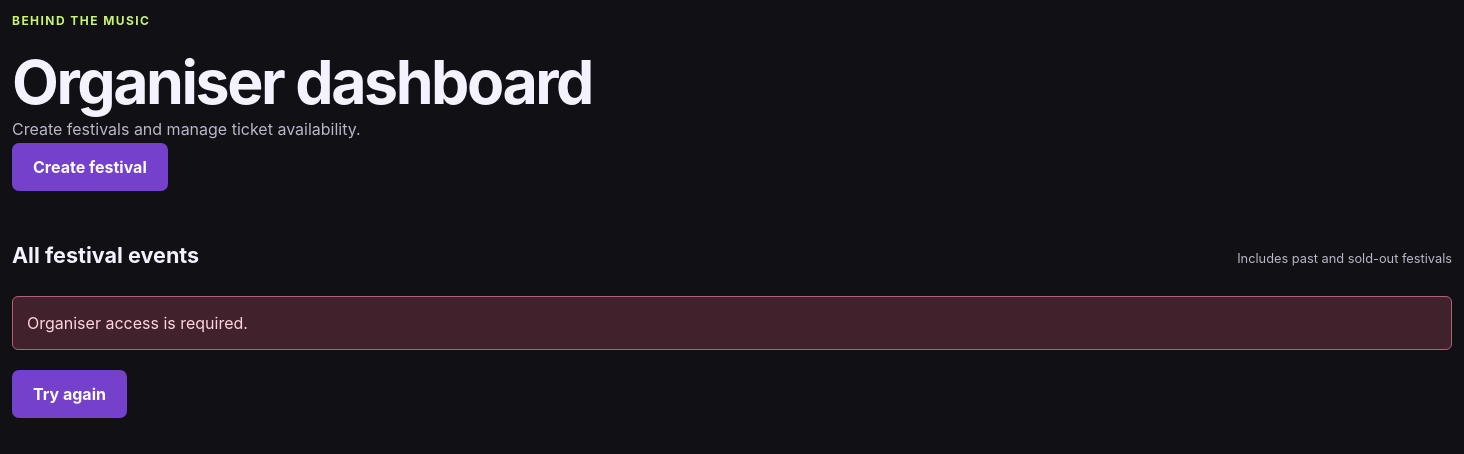
Test: shows dashboard errors and retries without a false empty state
Expected: the message "Organiser access is required." is shown, [12,296,1452,350]
Expected: the text "No festivals yet" is not shown
What coordinates should you click on to do the following:
click the button "Try again"
I would click on:
 (70, 394)
Its box is [12,370,127,418].
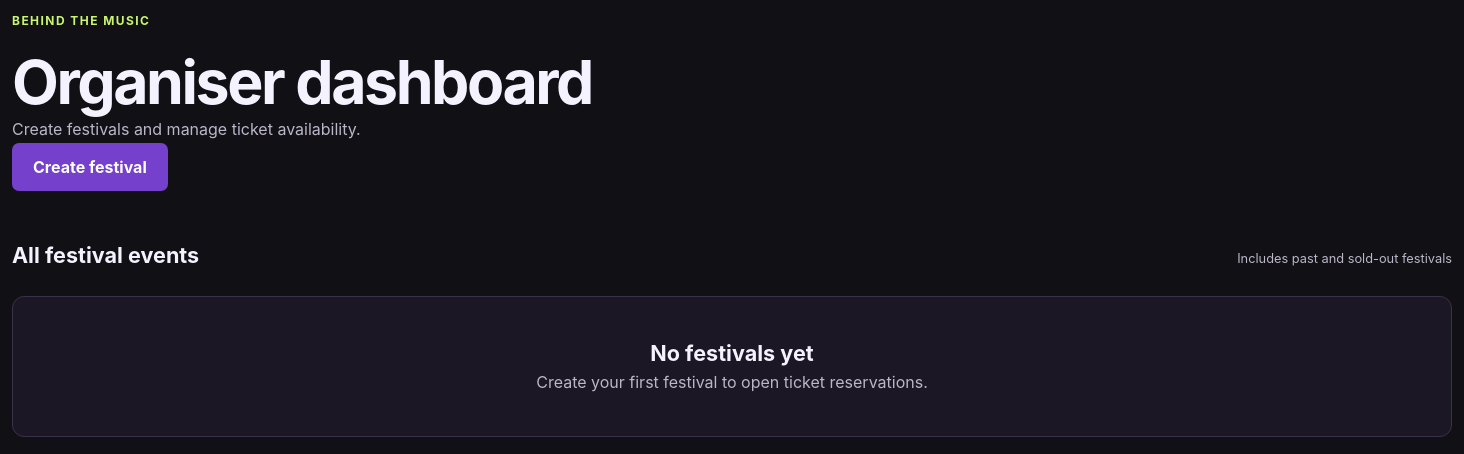
Result: the text "No festivals yet" is shown at [650,340,814,366]
